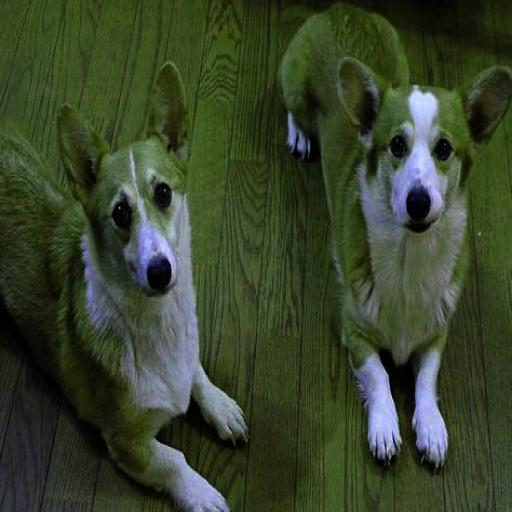dog_face: (338, 46, 512, 228), (66, 68, 185, 310)
